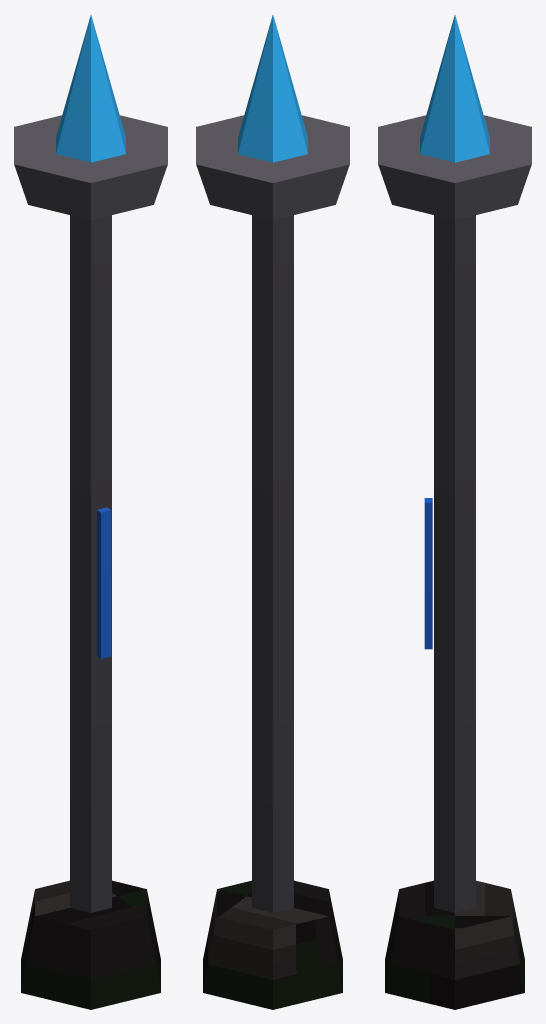
The model's file is rune_lamp.glb.
3 views of the same model, side by side, from view 1: azimuth 30°, elevation 25°; view 2: azimuth 150°, elevation 25°; view 3: azimuth 270°, elevation 25° (orthographic).
Parts seen in each view (by area): view 1: rune_lamp; view 2: rune_lamp; view 3: rune_lamp.
Boxes of the visible parts, <box> form: rune_lamp: <box>14,15,167,1009</box>; rune_lamp: <box>196,15,349,1009</box>; rune_lamp: <box>378,15,531,1009</box>.
Bounding box in the file's own units: 0.44 × 2.63 × 0.3811.
Materials: 3 (1 with a texture image).
